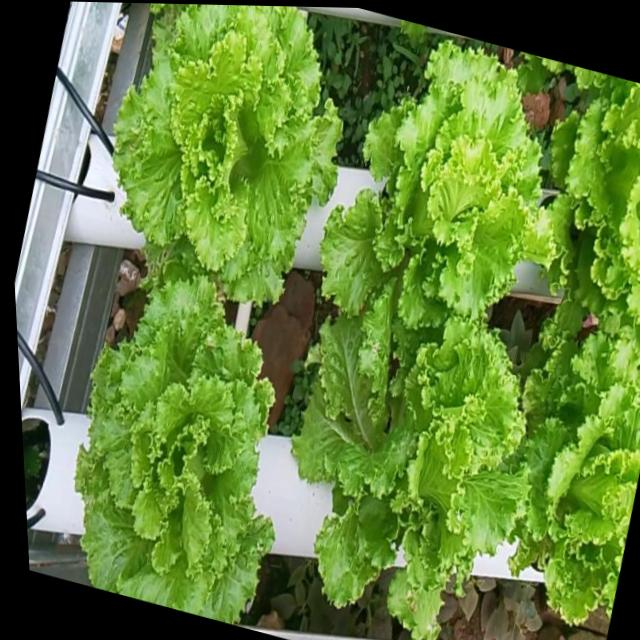Mature: (296, 311, 537, 640), (77, 253, 281, 624), (328, 35, 558, 348), (119, 4, 352, 295), (519, 336, 640, 635), (563, 77, 640, 333)
